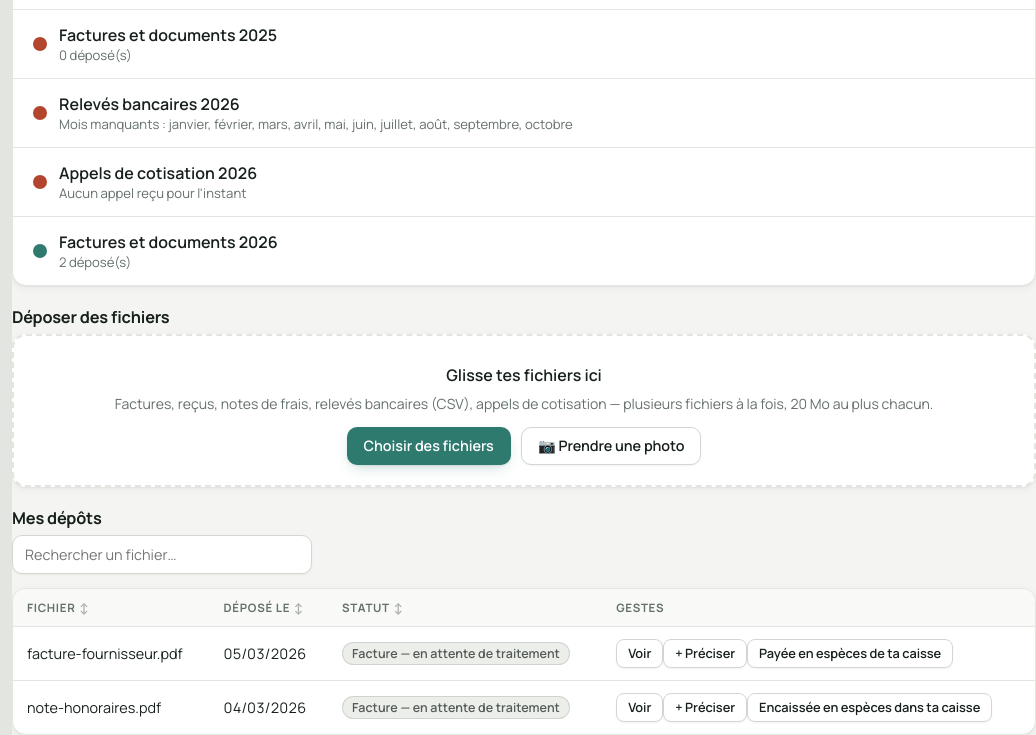
Test: le drapeau baissé › « Mes pièces » est celle d’hier : la liste ne se lit pas, la vente se paie comme hier
(page scrolled)
Expected: the text "facture-fournisseur.pdf" is shown, [13,626,210,680]
Click the button "Encaissée en espèces dans ta caisse" at (870, 708), box [747,693,992,722]
(page scrolled)
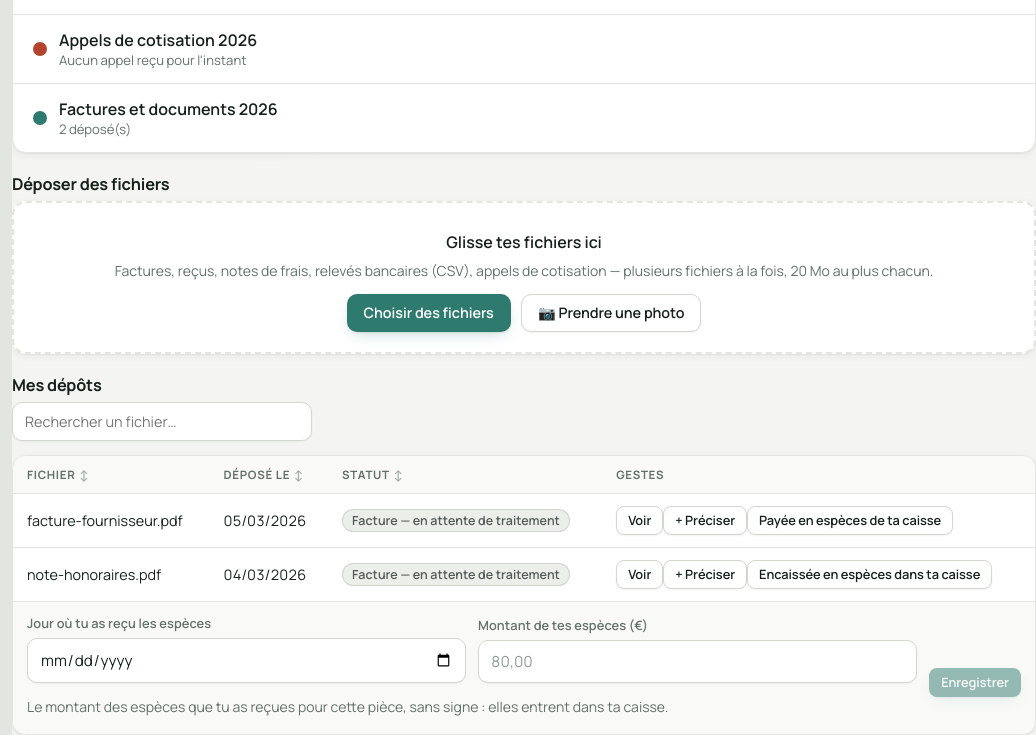
Expected: the date field labelled "Jour où tu as reçu les espèces" is shown, [27,638,466,683]
